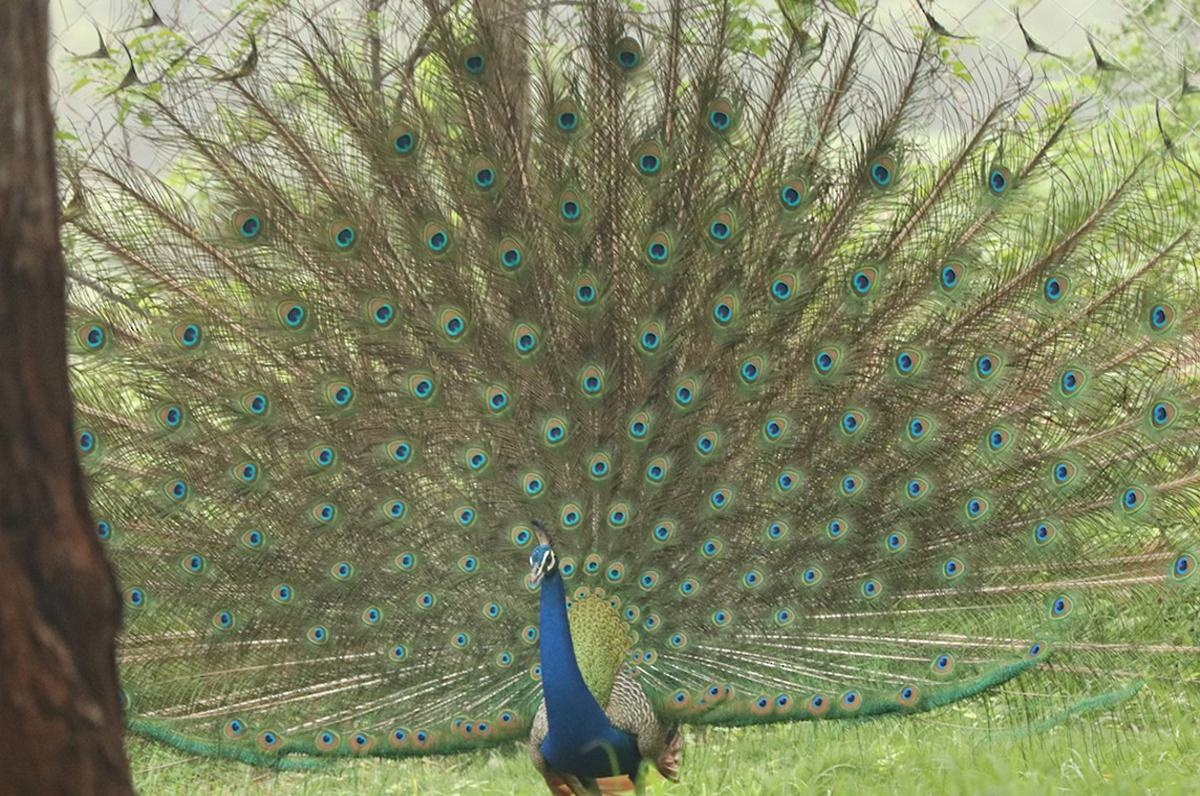peacock: (158, 99, 1024, 796)
